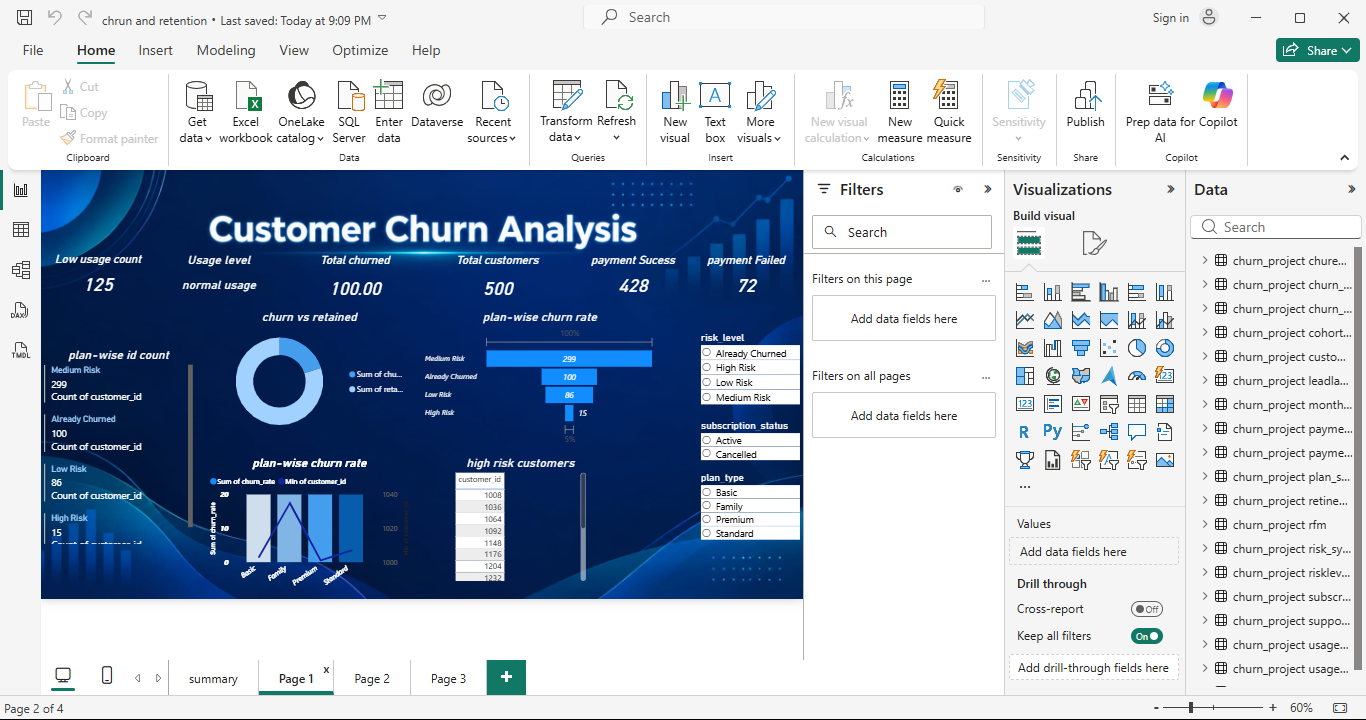

The page's visual inventory and layout, read from the dashboard file:
{"tool":"powerbi","page":{"name":"Page 1","canvas":[1280,720],"ordinal":1},"visuals":[{"type":"lineStackedColumnComboChart","title":"plan-wise churn rate","fields":{"Category":["churn_project customers.plan_type"],"Y":["Sum(churn_project churn_symmary.churn_rate)"],"Y2":["Min(churn_project churn_flags.customer_id)"]},"box":[278.8,480.4,344.4,240.2],"z":0},{"type":"donutChart","title":"churn vs retained","fields":{"Y":["Sum(churn_project churn_symmary.churned_customers)","Sum(churn_project churn_symmary.retained_customers)"]},"box":[278.8,235.2,344.4,216.7],"z":1000},{"type":"card","title":"payment Sucess","fields":{"Values":["churn_project payments.SP"]},"box":[898.2,139.3,191.1,83.9],"z":2000},{"type":"card","title":"payment Failed","fields":{"Values":["churn_project payments.FP"]},"box":[1089.3,139.3,191.1,83.9],"z":3000},{"type":"card","title":"Usage level","fields":{"Values":["churn_project usage_events.usage level"]},"box":[191.5,139.4,215,82.3],"z":4000},{"type":"card","title":"Low usage count","fields":{"Values":["churn_project usage_events.low usage customers"]},"box":[0,137.7,191.5,84],"z":5000},{"type":"multiRowCard","title":"plan-wise id count","fields":{"Values":["CountNonNull(churn_project risklevel_symmary.customer_id)","churn_project risklevel_symmary.risk_level"]},"box":[0,299,260.4,334.3],"z":6000},{"type":"tableEx","title":"high risk customers","fields":{"Values":["high risk id.customer_id"]},"box":[690.4,480.4,230.1,215],"z":7000},{"type":"funnel","title":"plan-wise churn rate","fields":{"Category":["churn_project risklevel_symmary.risk_level"],"Y":["CountNonNull(churn_project risklevel_symmary.recommendation)"]},"box":[640,235.2,396.4,231.8],"z":8000},{"type":"listSlicer","fields":{"Values":["churn_project risk_symmary.risk_level"]},"box":[1103.6,270.4,176.4,235.2],"z":9000},{"type":"listSlicer","fields":{"Values":["churn_project subscriptions.subscription_status"]},"box":[1103.6,418.3,176.4,215],"z":10000},{"type":"listSlicer","fields":{"Values":["churn_project customers.plan_type"]},"box":[1103.6,505.6,176.4,215],"z":11000},{"type":"lineStackedColumnComboChart","title":"plan-wise churn rate","fields":{"Category":["churn_project customers.plan_type"],"Y":["Sum(churn_project churn_symmary.churn_rate)"],"Y2":["Min(churn_project churn_flags.customer_id)"]},"box":[278.8,479.8,344.4,240.2],"z":12000},{"type":"card","title":"Total churned","fields":{"Values":["Sum(churn_project churn_symmary.churned_customers)"]},"box":[432.1,139.3,191.1,92.9],"z":13000},{"type":"card","title":"Total customers","fields":{"Values":["CountNonNull(churn_project churn_flags.customer_id)"]},"box":[671.4,139.3,189.3,92.9],"z":14000}]}

Visuals, with their boxes on the page's 1280x720 design canvas (x1, y1, x2, y2). These are canvas units, not pixel positions in the 1366x720 screenshot, which may show the page scaled, cropped or inside an application window:
"plan-wise churn rate" lineStackedColumnComboChart: locate(279, 480, 623, 721)
"churn vs retained" donutChart: locate(279, 235, 623, 452)
"payment Sucess" card: locate(898, 139, 1089, 223)
"payment Failed" card: locate(1089, 139, 1280, 223)
"Usage level" card: locate(192, 139, 406, 222)
"Low usage count" card: locate(0, 138, 192, 222)
"plan-wise id count" multiRowCard: locate(0, 299, 260, 633)
"high risk customers" tableEx: locate(690, 480, 920, 695)
"plan-wise churn rate" funnel: locate(640, 235, 1036, 467)
listSlicer - churn_project risk_symmary.risk_level: locate(1104, 270, 1280, 506)
listSlicer - churn_project subscriptions.subscription_status: locate(1104, 418, 1280, 633)
listSlicer - churn_project customers.plan_type: locate(1104, 506, 1280, 721)
"plan-wise churn rate" lineStackedColumnComboChart: locate(279, 480, 623, 720)
"Total churned" card: locate(432, 139, 623, 232)
"Total customers" card: locate(671, 139, 861, 232)
